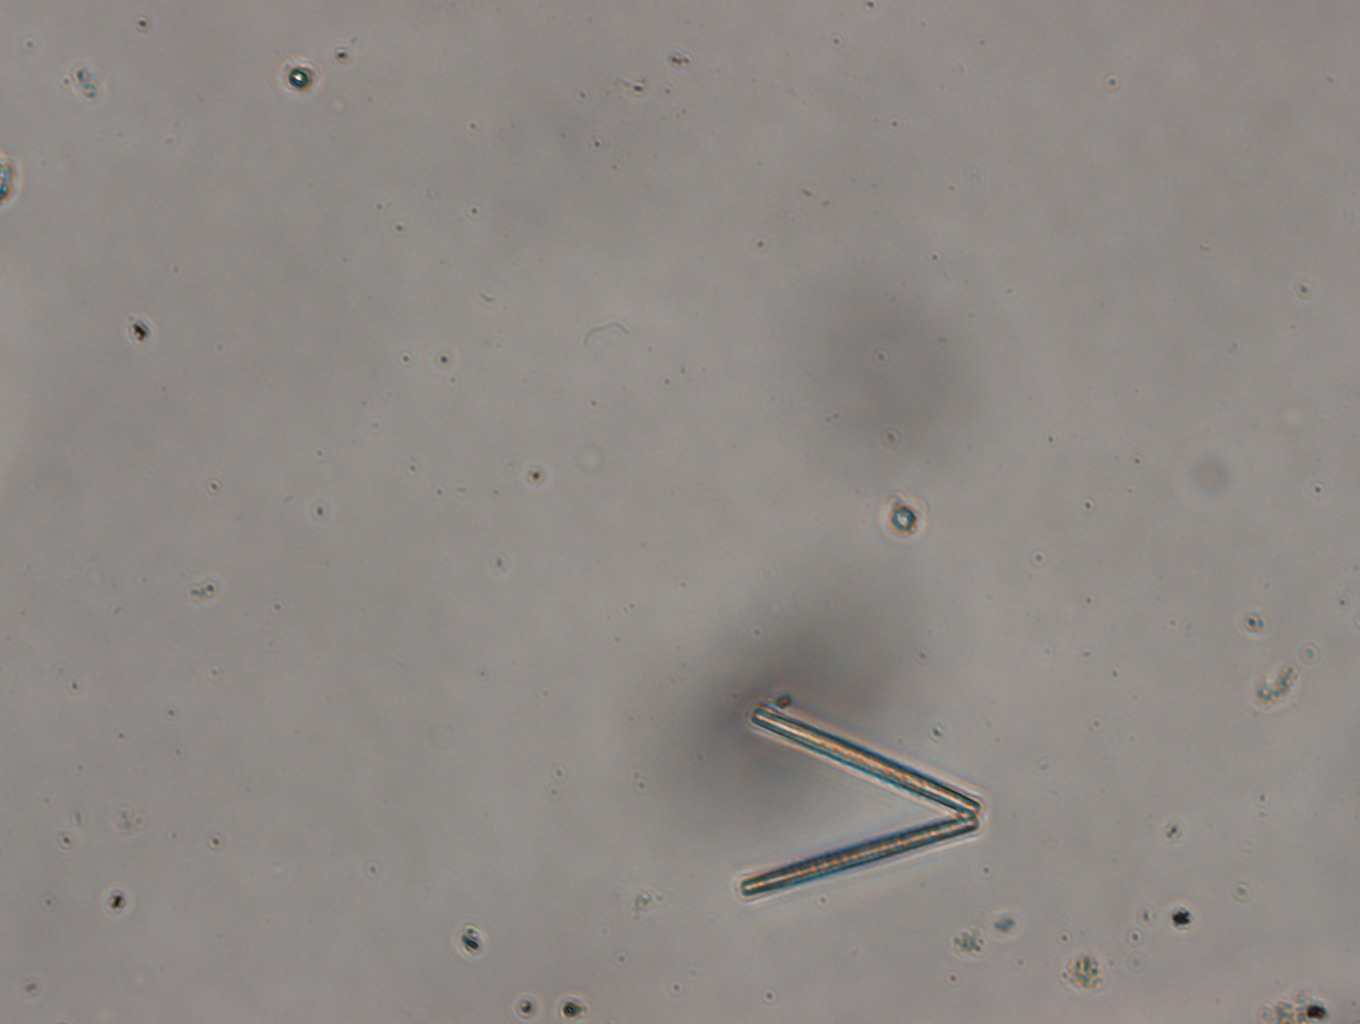thalassionema nitzschioides: (735, 705, 985, 904)
